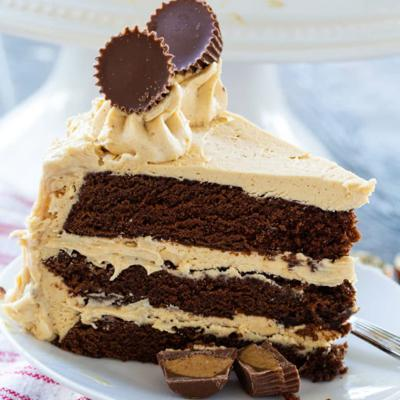cake: (30, 100, 357, 384)
